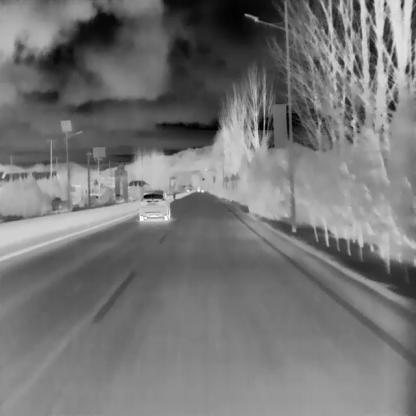car: (138, 190, 170, 221)
